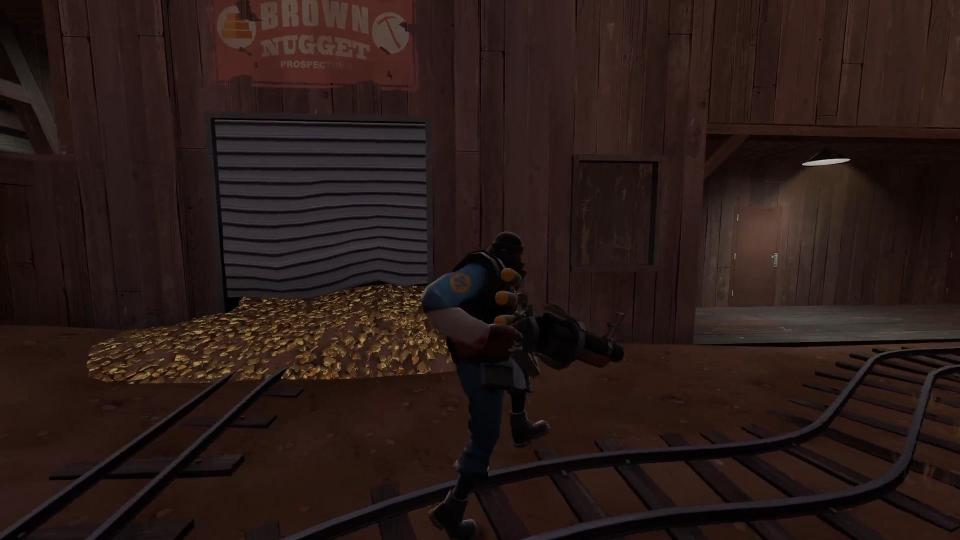Enemy: (418, 228, 626, 539)
